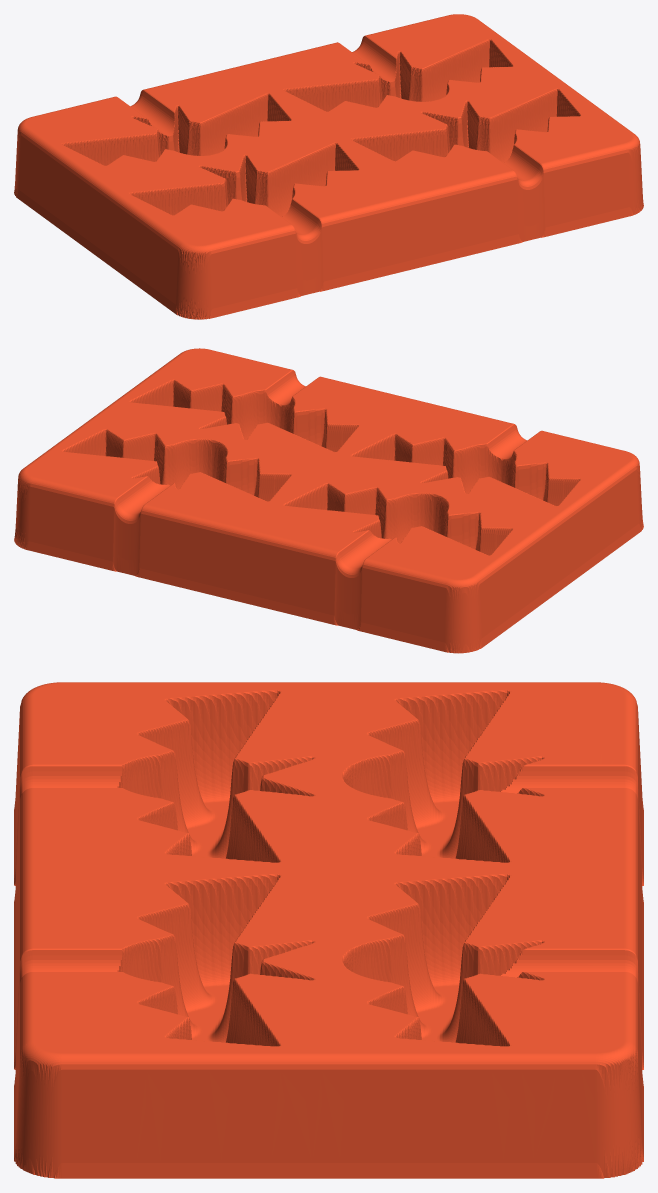
File: mold.glb
3 renders of one model, top to bottom at view 1: azimuth 30°, elevation 25°; view 2: azimuth 150°, elevation 25°; view 3: azimuth 270°, elevation 25°, orthographic. The views are drawn at different scales.
Parts seen in each view (by area): view 1: geometry_0; view 2: geometry_0; view 3: geometry_0.
Part boxes in pixels (box(x1,y1,x2,y2)): geometry_0: box(14, 14, 643, 319); geometry_0: box(14, 348, 643, 653); geometry_0: box(14, 682, 643, 1178).
Size of the model in its own units: 0.1726 by 0.0245 by 0.1191.
